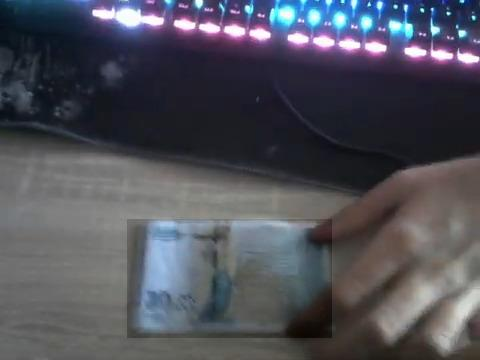20leva: (127, 219, 332, 338)
